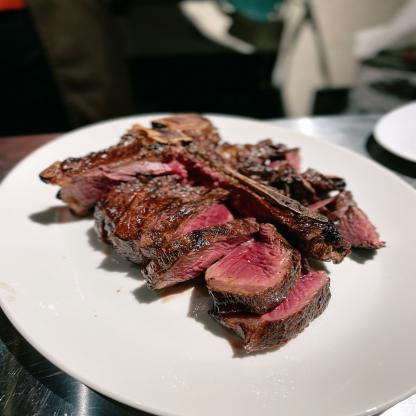Carne: (38, 127, 168, 221), (151, 214, 256, 299), (222, 272, 337, 347), (207, 223, 299, 302), (102, 176, 186, 250), (148, 194, 228, 261), (323, 194, 408, 246)
